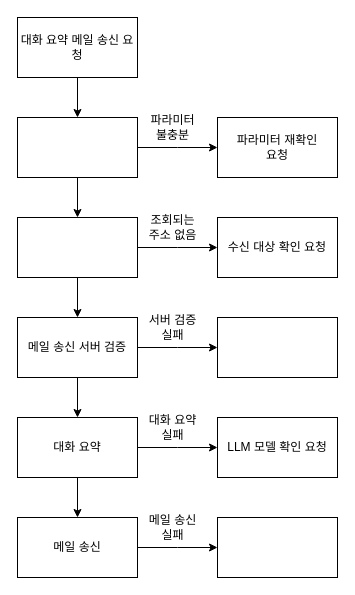
Image size: 355x595. Some labels were removed from this diagram. The centre of each missing label's shape, as x and y in pixels:
메일 주소 조회: point 77,247
없는 주소/스팸 확인 요청: point 277,547
이메일 서버 검증 요청: point 277,347
프롬프트 생성: point 77,147
